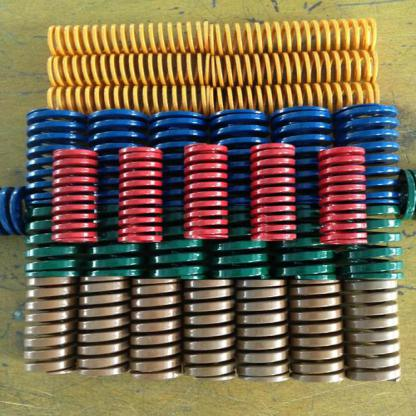FOD: (40, 80, 383, 116), (45, 18, 385, 53), (232, 274, 295, 386), (126, 275, 186, 385), (345, 276, 403, 383), (314, 143, 372, 249), (23, 108, 85, 204), (48, 144, 103, 246), (113, 144, 168, 246), (20, 277, 77, 375), (180, 141, 234, 243), (247, 140, 299, 244), (344, 199, 406, 281)
